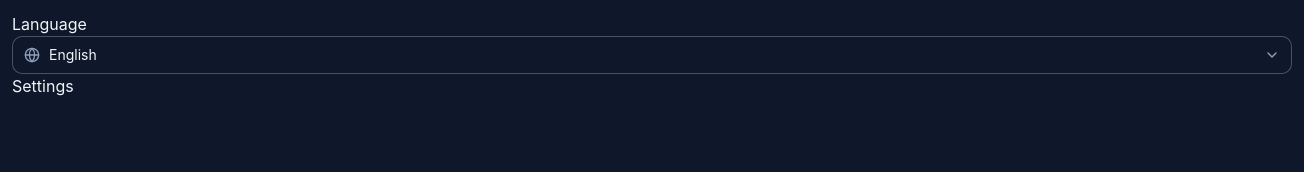
Scenario: keeps the page in the current language until the picked one has loaded
Later steps or results of the test are not shown.
Select "Dansk" in the dropdown at x=652, y=55, box x1=12 y1=36 x2=1292 y2=74
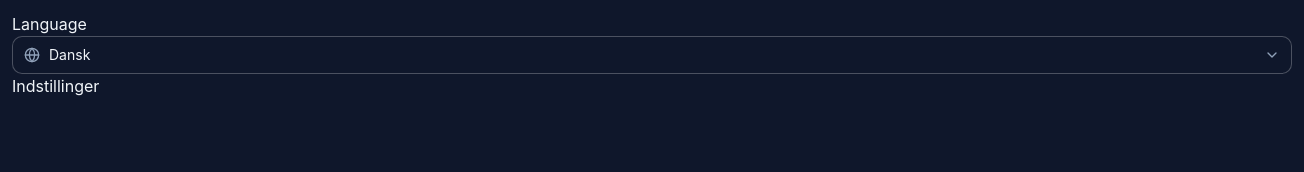
Check: the text "Indstillinger" is shown, box x1=12 y1=76 x2=99 y2=96
